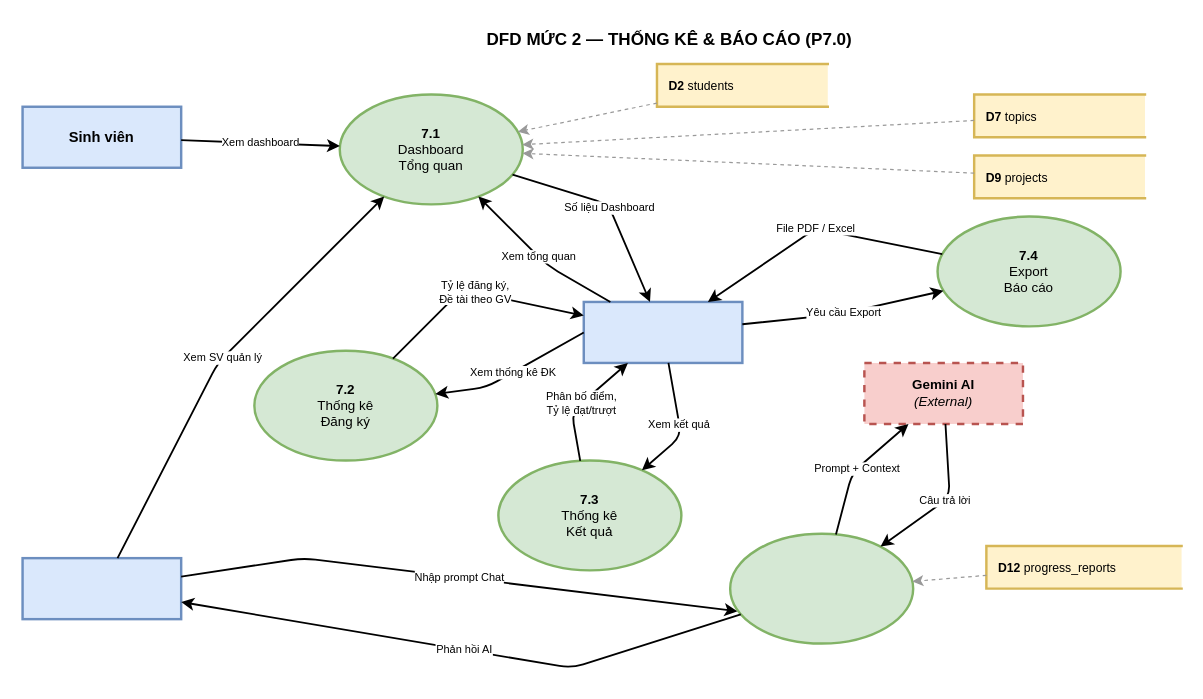
This 1203x699 diagram has some shape labels left out. Each missing label, with the centre of its shape:
"7.5 AI Assistant" goes at [821,588].
"Admin" goes at [662,332].
"Giáo viên" goes at [101,588].
